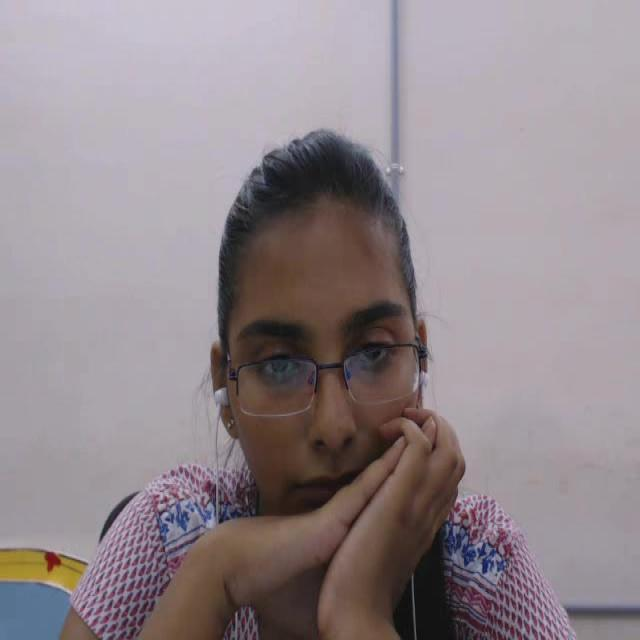Bored: (155, 100, 468, 640)
